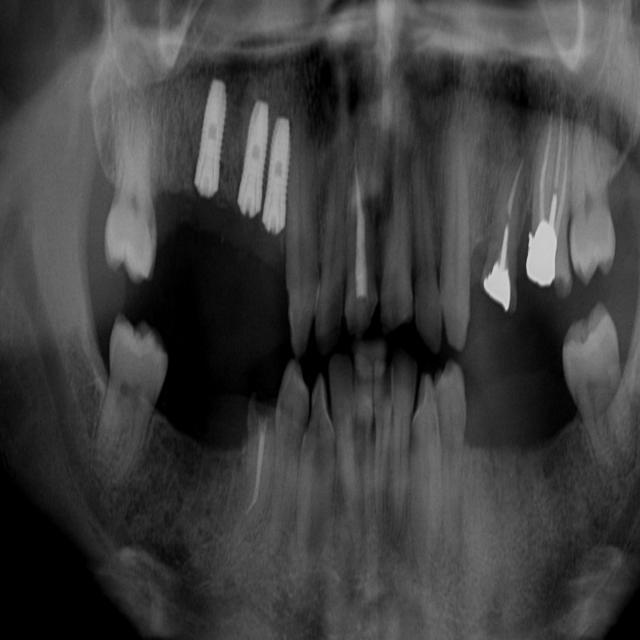infected-teeth: (526, 99, 573, 298), (479, 144, 529, 315), (342, 142, 376, 341)
